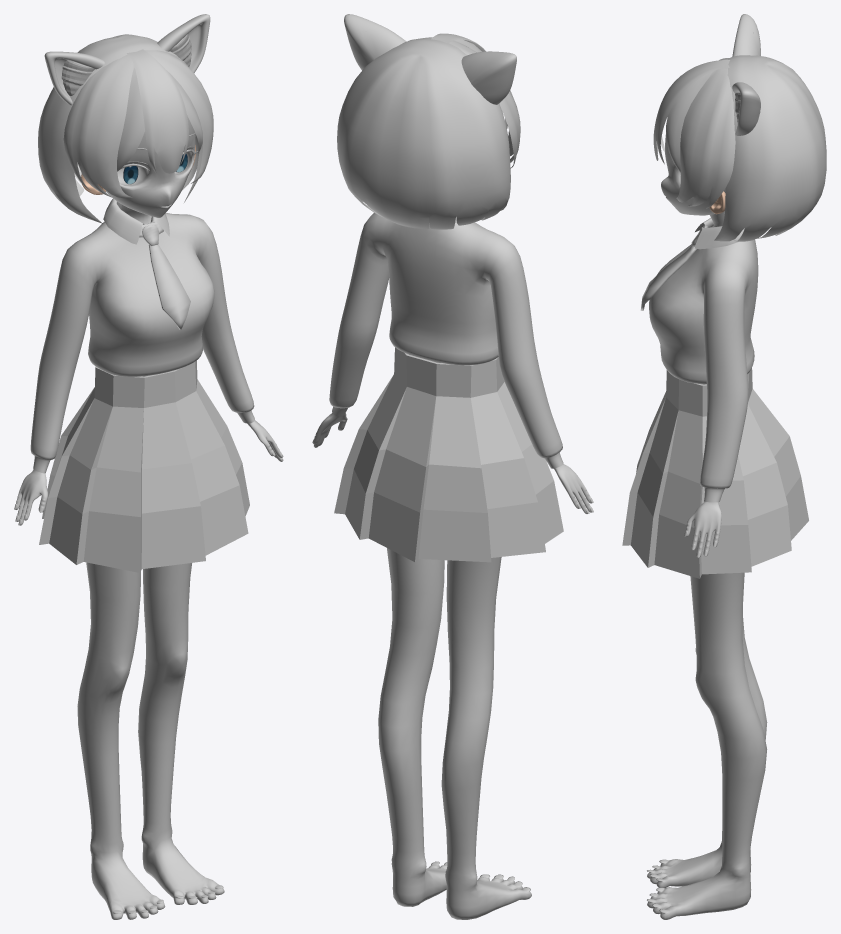
The picture shows the model from 3 angles, left to right: view 1: azimuth 30°, elevation 25°; view 2: azimuth 150°, elevation 25°; view 3: azimuth 270°, elevation 25°; orthographic projection. The views are drawn at different scales.
Parts seen in each view (by area): view 1: Kepala_Plane.004, Circle.003_Circle.006, Circle.002_Circle.001, Rambut_samping_Plane.002, Plane_Plane.003, Rambut_Depan_Plane.006, Plane.003_Plane.001, Plane.002_Plane.007, Plane.004_Plane.008; view 2: Circle.003_Circle.006, Kepala_Plane.004, Circle.002_Circle.001, Plane_Plane.003, Plane.003_Plane.001, Rambut_samping_Plane.002; view 3: Circle.003_Circle.006, Kepala_Plane.004, Circle.002_Circle.001, Plane_Plane.003, Rambut_samping_Plane.002, Plane.003_Plane.001, Rambut_Depan_Plane.006, Plane.002_Plane.007.
Boxes of the visible parts, x1=… form: Kepala_Plane.004: x1=14, y1=115, x2=283, y2=919; Circle.003_Circle.006: x1=39, y1=360, x2=249, y2=572; Circle.002_Circle.001: x1=30, y1=198, x2=254, y2=473; Rambut_samping_Plane.002: x1=63, y1=50, x2=213, y2=198; Plane_Plane.003: x1=38, y1=34, x2=202, y2=223; Rambut_Depan_Plane.006: x1=126, y1=49, x2=188, y2=173; Plane.003_Plane.001: x1=44, y1=14, x2=210, y2=105; Plane.002_Plane.007: x1=139, y1=222, x2=190, y2=329; Plane.004_Plane.008: x1=61, y1=34, x2=191, y2=95; Circle.003_Circle.006: x1=334, y1=347, x2=563, y2=562; Kepala_Plane.004: x1=312, y1=413, x2=593, y2=919; Circle.002_Circle.001: x1=329, y1=213, x2=563, y2=468; Plane_Plane.003: x1=337, y1=38, x2=510, y2=229; Plane.003_Plane.001: x1=344, y1=14, x2=516, y2=104; Rambut_samping_Plane.002: x1=408, y1=37, x2=520, y2=168; Circle.003_Circle.006: x1=622, y1=368, x2=808, y2=578; Kepala_Plane.004: x1=647, y1=132, x2=767, y2=919; Circle.002_Circle.001: x1=649, y1=218, x2=758, y2=502; Plane_Plane.003: x1=714, y1=55, x2=826, y2=241; Rambut_samping_Plane.002: x1=666, y1=58, x2=735, y2=208; Plane.003_Plane.001: x1=732, y1=14, x2=760, y2=135; Rambut_Depan_Plane.006: x1=653, y1=60, x2=729, y2=164; Plane.002_Plane.007: x1=640, y1=224, x2=707, y2=310.
Size of the model in its own units: 1.03 by 3.14 by 0.6918.
